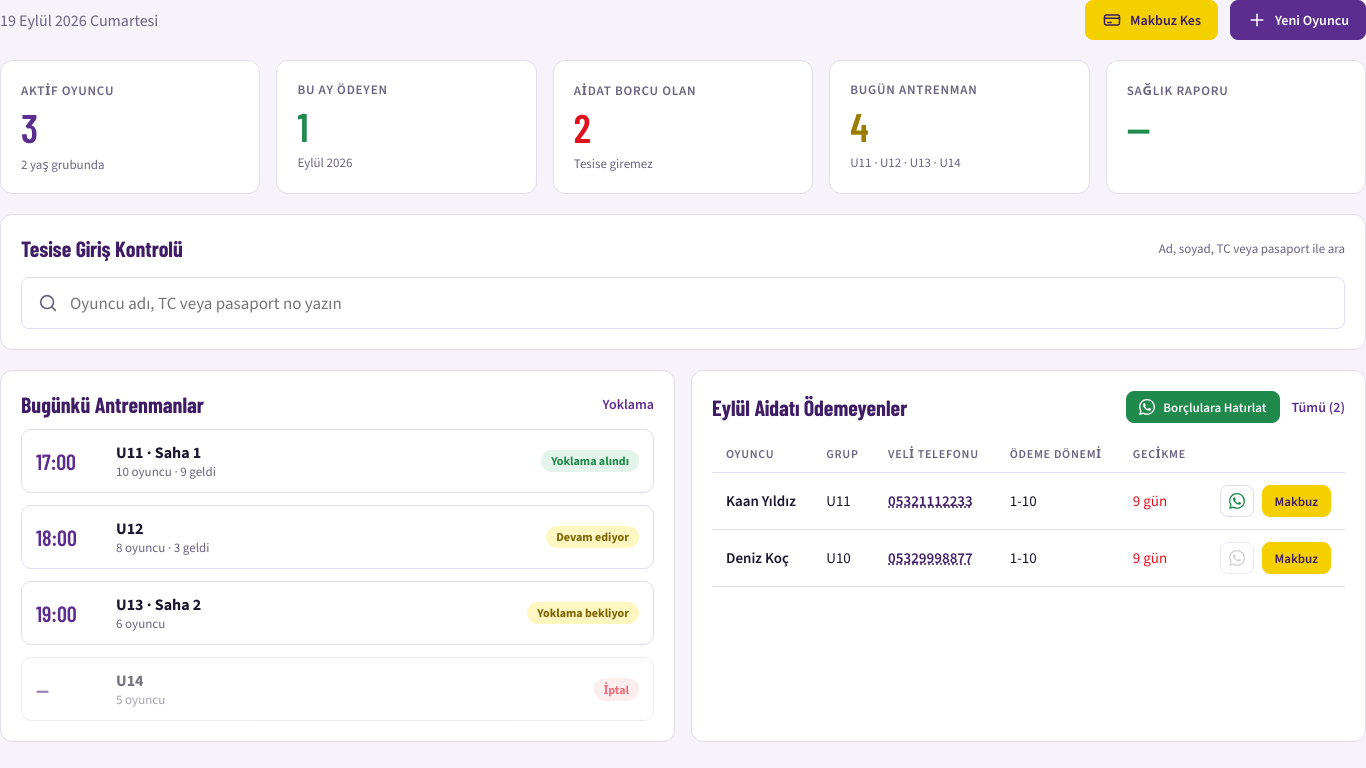
Scenario: Pano — bugünkü antrenmanlar ve borçlu eylemleri (karakterizasyon) › satır WhatsApp düğmesi: onaylı veli açık, onaysız veli kapalı ve nedeni başlıkta; tıklayınca tek alıcılı pencere
The width and height of the screenshot is (1366, 768).
Expected: the text "Kaan Yıldız" is shown, [712,472,812,530]
Expected: the button named "Deniz Koç WhatsApp" is disabled, [1220,542,1254,574]
Click the button named "Kaan Yıldız WhatsApp" at (1236, 501), box [1220,485,1254,517]
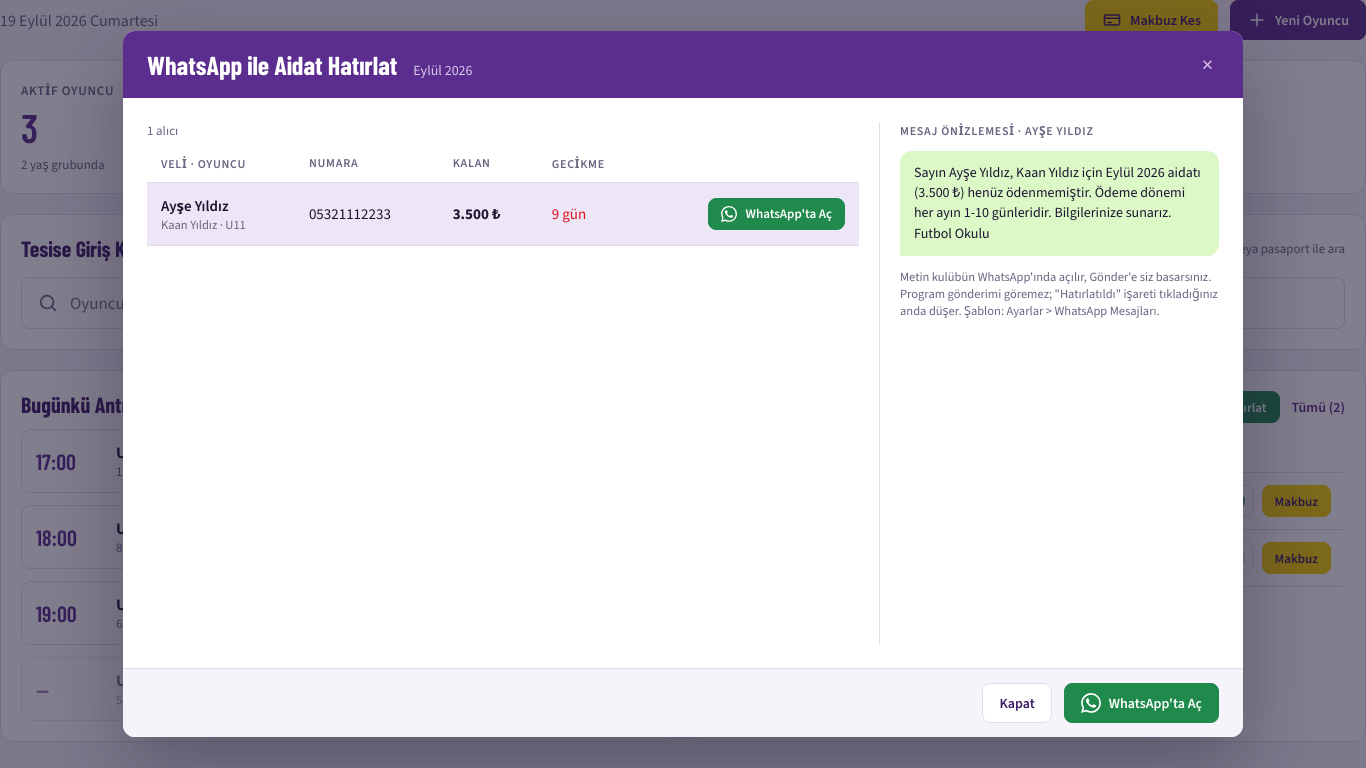
Now the dialog shows "WhatsApp ile Aidat Hatırlat", box [147,49,397,80]
Now the dialog shows "Ayşe Yıldız", box [161,196,229,216]
